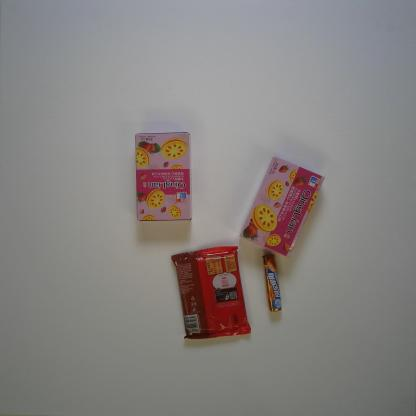Candy: (262, 253, 282, 312)
Dessert: (238, 156, 326, 258), (170, 245, 252, 340), (134, 131, 194, 221)
